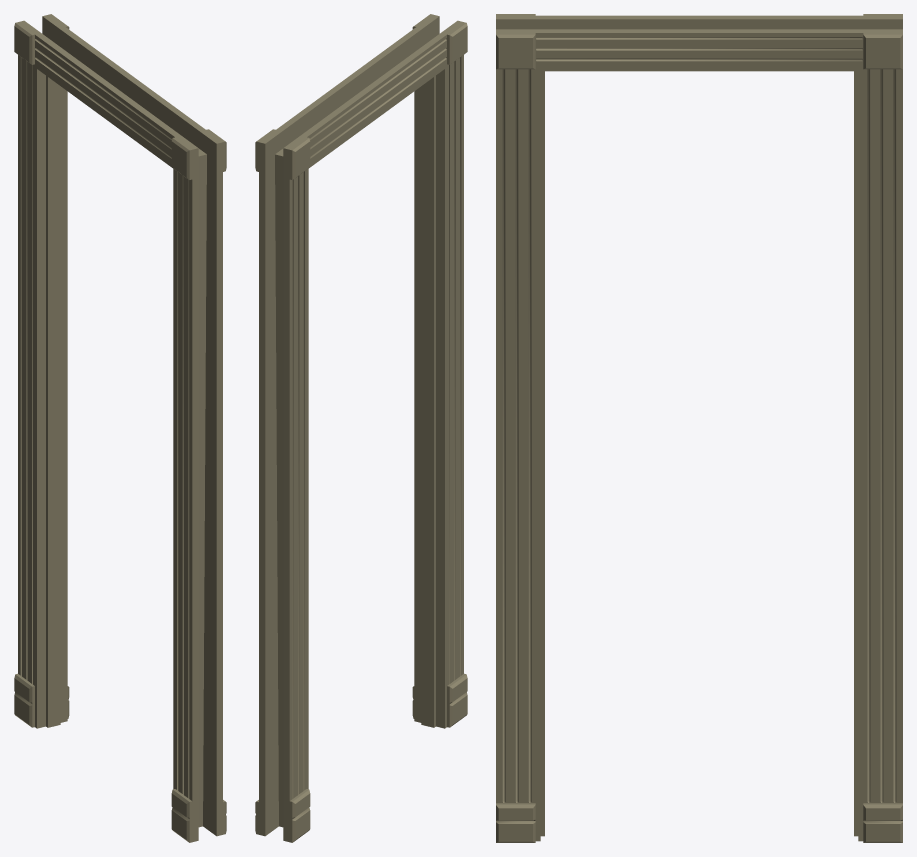
Rendered from 69_LIVERPOOL_Frame.glb.
3 renders of one model, left to right at view 1: azimuth 30°, elevation 25°; view 2: azimuth 150°, elevation 25°; view 3: azimuth 270°, elevation 25°, orthographic. The views are drawn at different scales.
Parts seen in each view (by area): view 1: 69_LIVERPOOL_Frame; view 2: 69_LIVERPOOL_Frame; view 3: 69_LIVERPOOL_Frame.
Boxes of the visible parts, x1,y1,x2,y2 form: 69_LIVERPOOL_Frame: (14, 14, 226, 842); 69_LIVERPOOL_Frame: (255, 14, 467, 842); 69_LIVERPOOL_Frame: (496, 14, 902, 842).
Size of the model in its own units: 0.1406 by 2.33 by 1.06.
